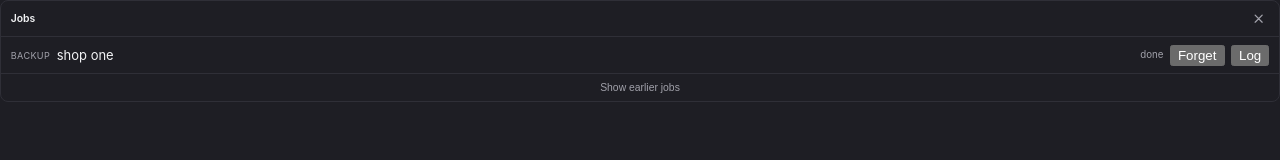
Test: the jobs panel › takes a forgotten job off the list
Expected: the text "shop one" is shown, [57,47,114,63]
Click the button with aria-label "Forget shop one".
click(1197, 55)  # box [1170,45,1224,66]
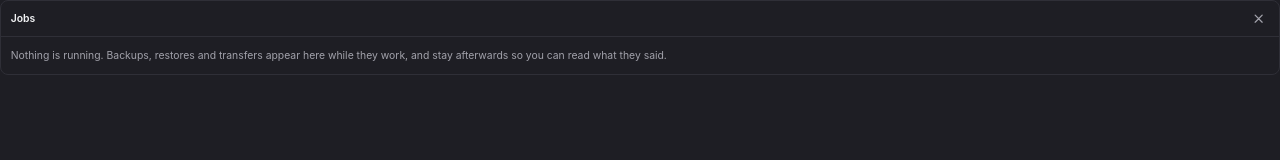
Expected: the text "shop one" is gone
